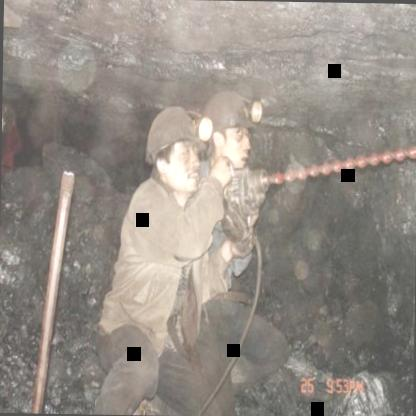helmet: (143, 100, 202, 194), (202, 86, 255, 166)
